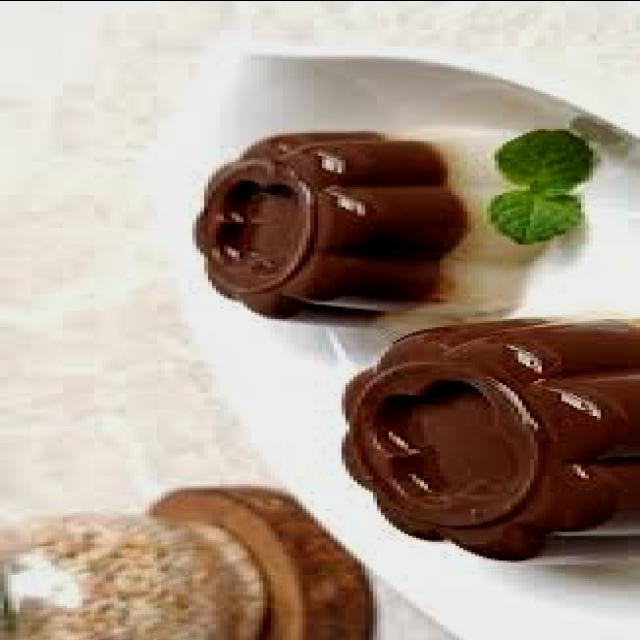puding: (188, 106, 572, 336), (330, 306, 640, 566)
